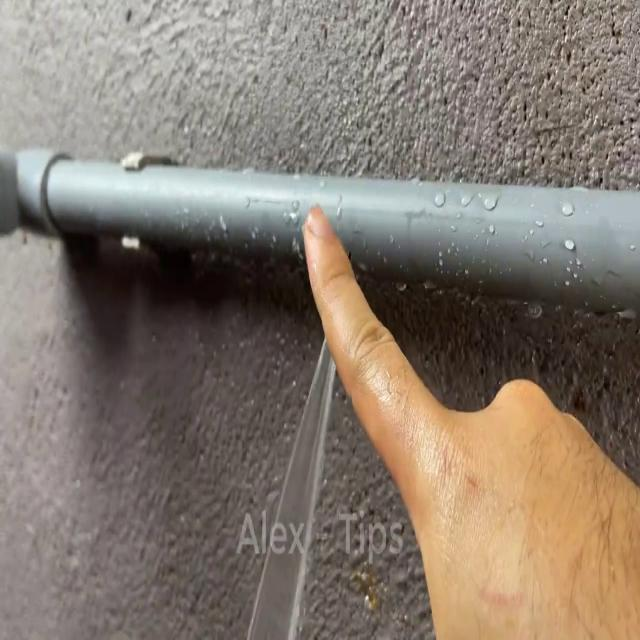leak: (246, 341, 336, 640)
